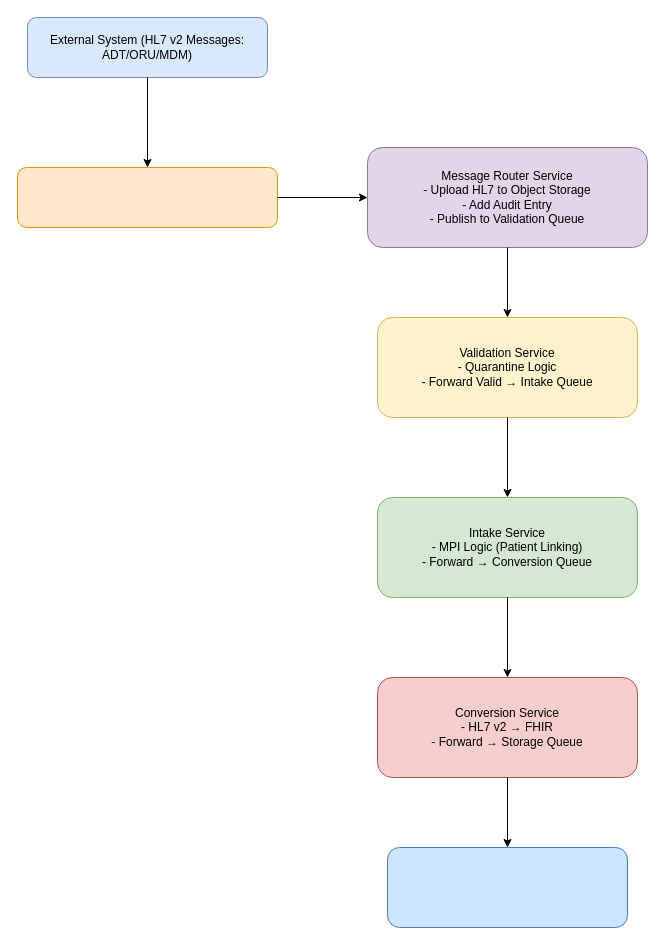
Some shapes in this 665 by 945 pixel diagram are drawn without their labels. The shapes that lost their labels are listed below. From the top down, each one's centre as x and y in pixels, then its label:
At [147,197]: "API Gateway Service (JWT Validation & Role Check)".
At [507,887]: "Storage Service - Business Logic - Save to Database".
